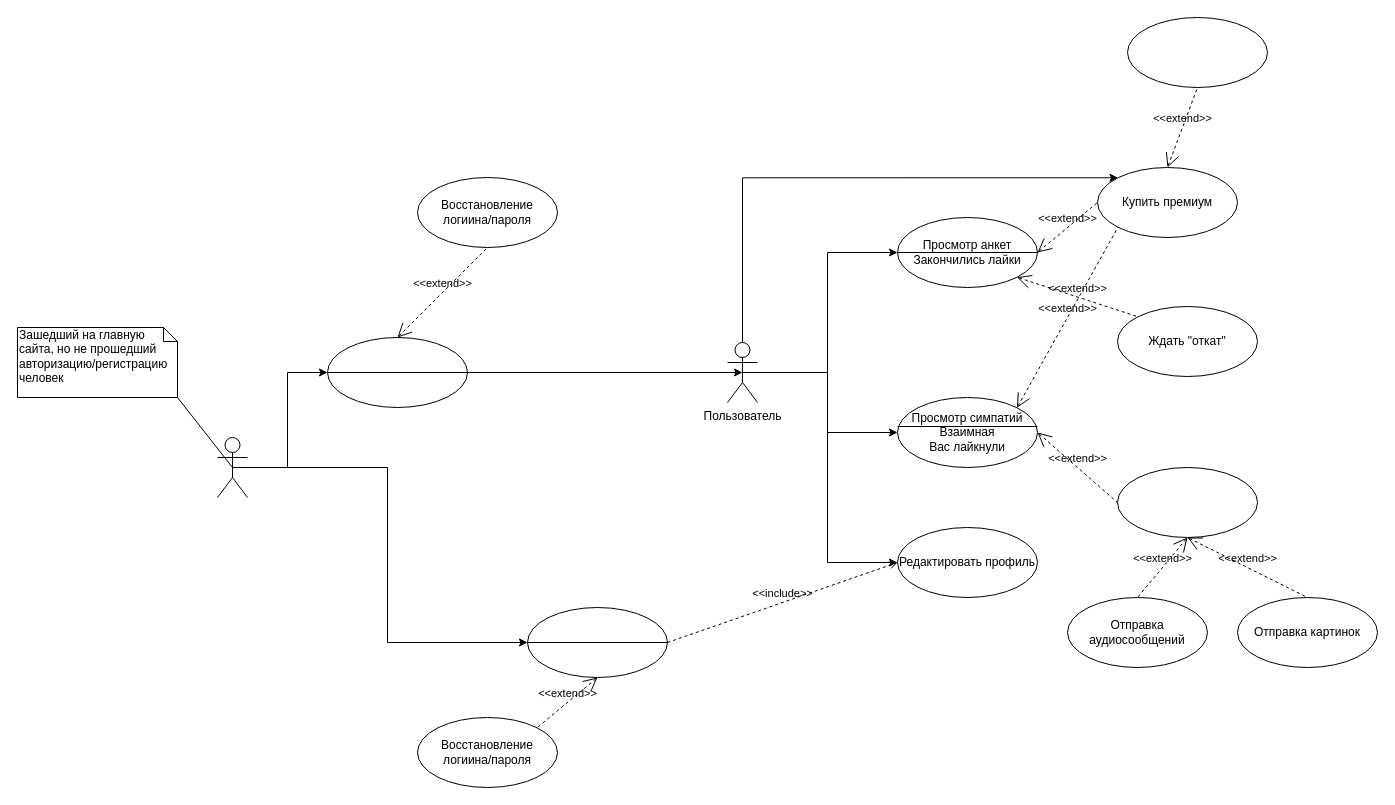
The diagram is 1395 pixels wide and 805 high, and some of its shapes have lost their labels. Each missing label, with the centre of its shape:
Авторизация Неверные данные: point 397,372
Ввод плаётжной информации: point 1197,52
Гость: point 232,467
Отправка сообщений: point 1187,502
Регистрация Уже зарегестрированны: point 597,642
